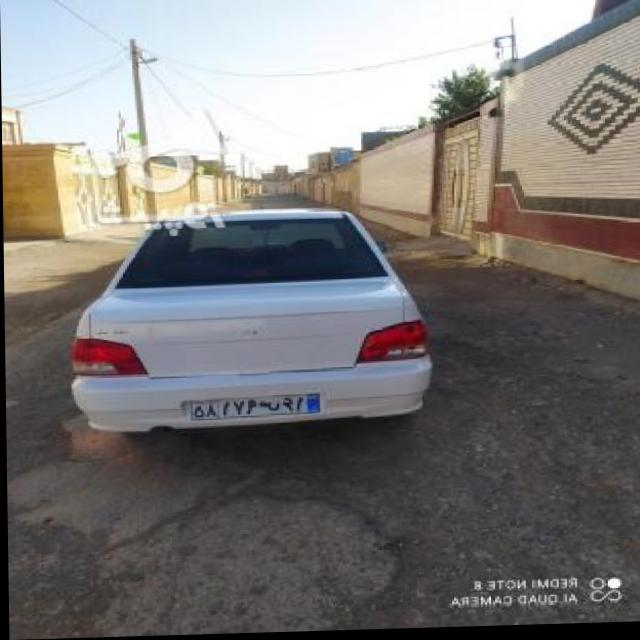licence: (183, 395, 329, 419)
